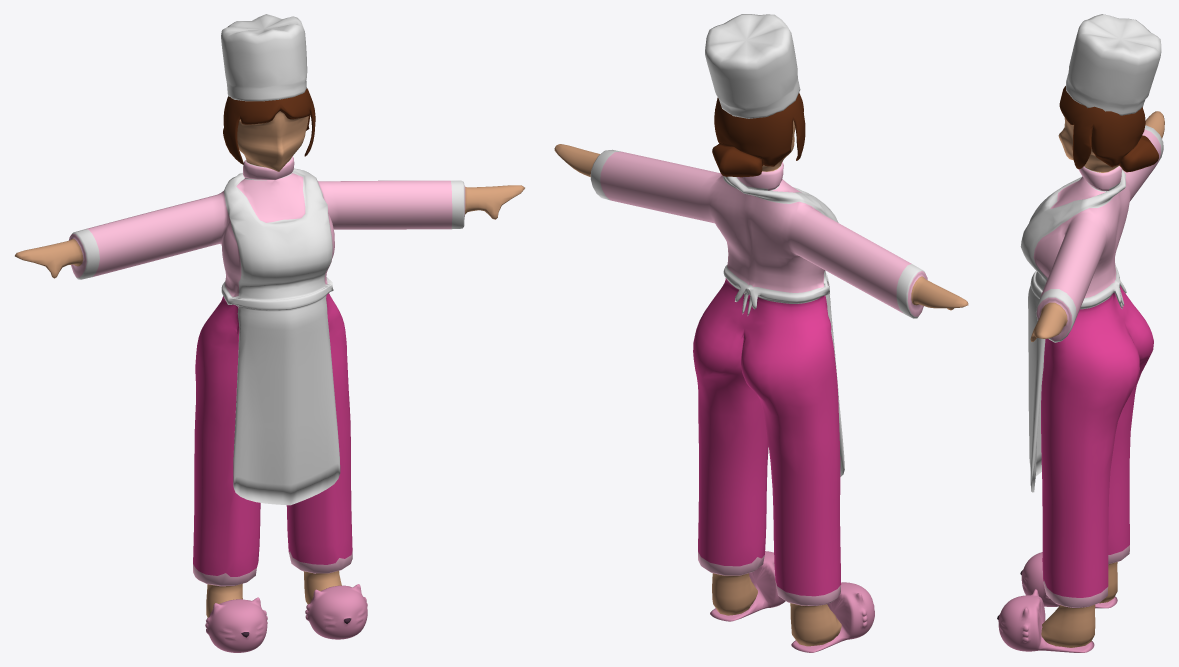
Rendered from baker.glb.
3 renders of one model, left to right at view 1: azimuth 30°, elevation 25°; view 2: azimuth 150°, elevation 25°; view 3: azimuth 270°, elevation 25°, orthographic. The views are drawn at different scales.
Visible parts, largest first — view 1: BOULANGERE TAB, TOQUE.001, PANTOUFLES.001; view 2: BOULANGERE TAB, TOQUE.001, PANTOUFLES.001; view 3: BOULANGERE TAB, TOQUE.001, PANTOUFLES.001.
Boxes of the visible parts, bbox=[...] form: BOULANGERE TAB: bbox=[15, 88, 524, 617]; TOQUE.001: bbox=[221, 14, 307, 101]; PANTOUFLES.001: bbox=[205, 584, 367, 652]; BOULANGERE TAB: bbox=[554, 93, 968, 646]; TOQUE.001: bbox=[705, 14, 800, 118]; PANTOUFLES.001: bbox=[710, 551, 874, 652]; BOULANGERE TAB: bbox=[1020, 86, 1164, 647]; TOQUE.001: bbox=[1066, 14, 1161, 115]; PANTOUFLES.001: bbox=[997, 552, 1117, 652].
Bounding box in the file's own units: 3.19 × 3.97 × 0.9982.
